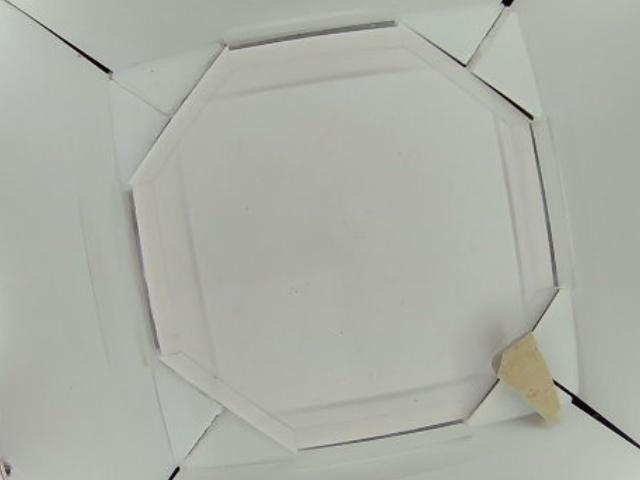China: (494, 333, 561, 427)
